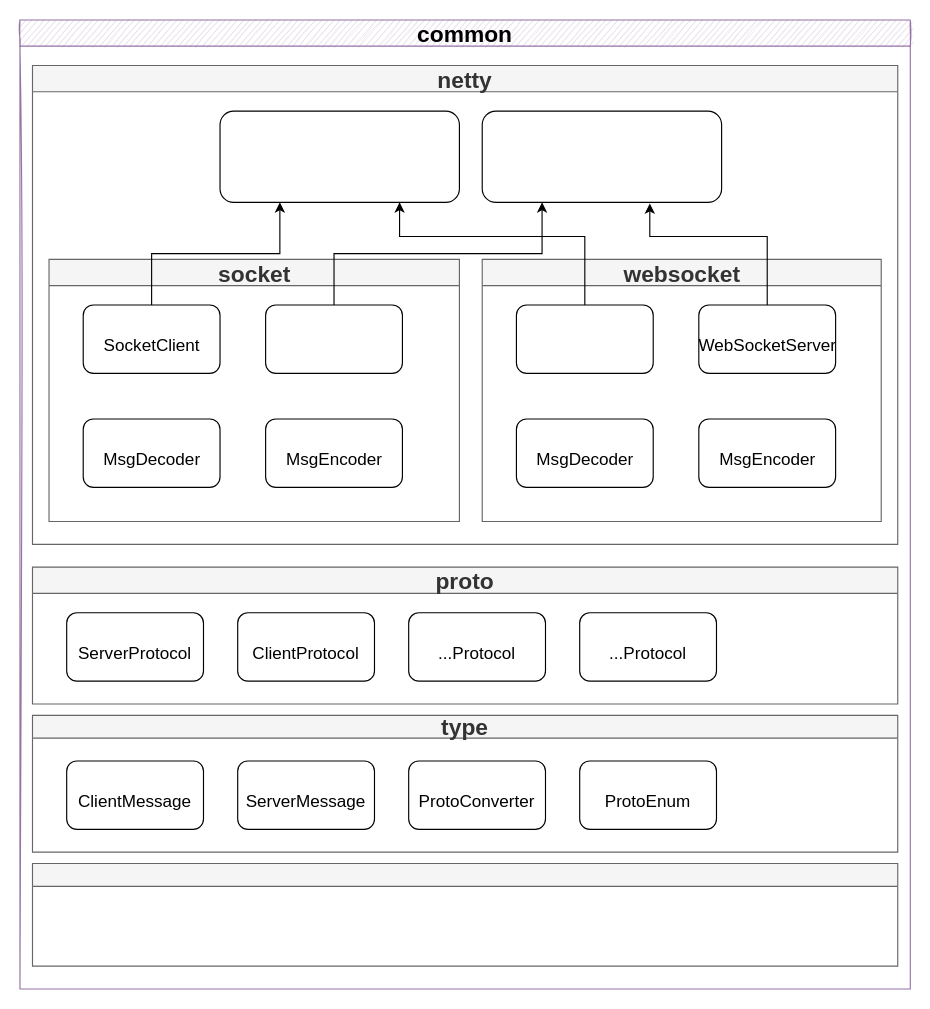
This 930x1009 diagram has some shape labels left out. The shapes that lost their labels are listed below. From the top down, each one's centre as x and y in pixels, then its label:
At pixel 339 156: "NettyClient".
At pixel 601 156: "NettyServer".
At pixel 333 338: "SocketServer".
At pixel 584 338: "WebSocketClient".
At pixel 464 914: "util".
